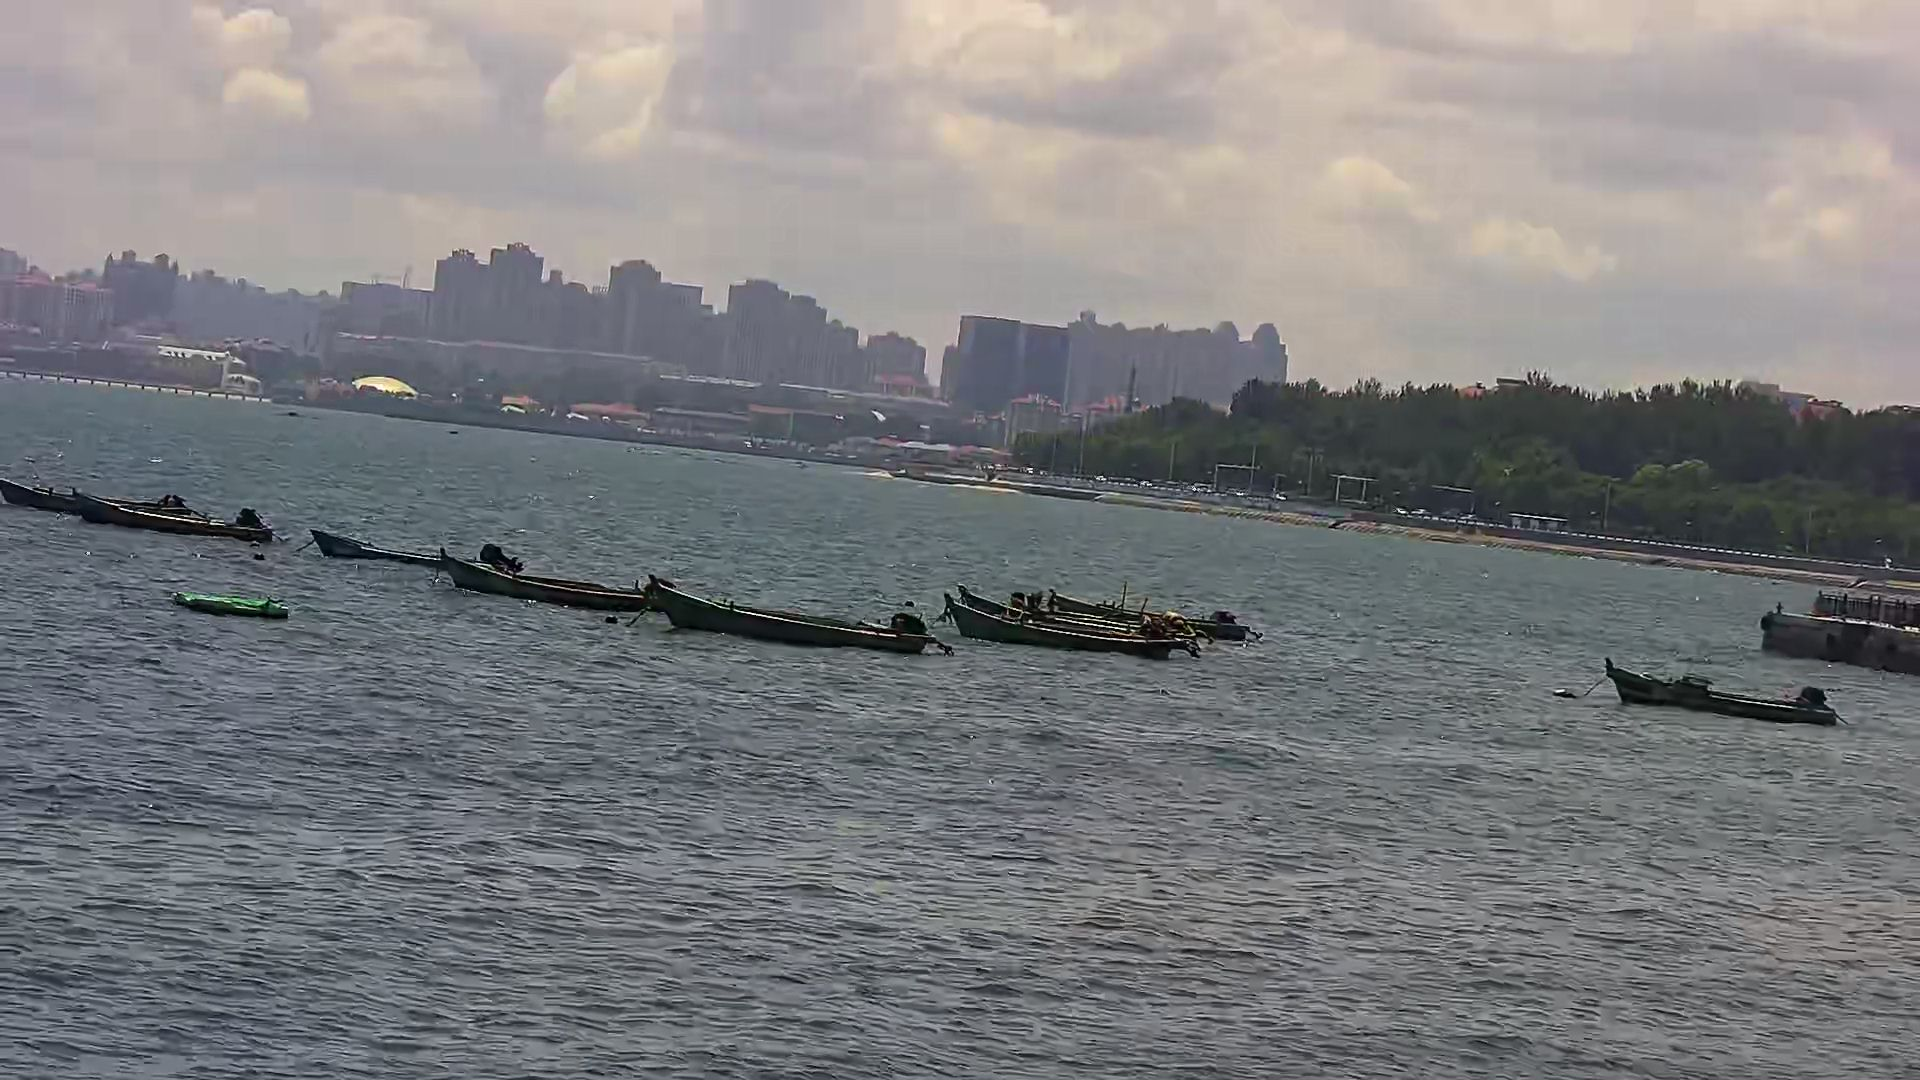ball: (592, 607, 633, 632)
boat: (644, 563, 960, 673), (1601, 636, 1863, 729), (936, 591, 1211, 673), (438, 531, 658, 607), (58, 477, 286, 550), (1039, 578, 1269, 638), (1, 456, 195, 524), (302, 516, 476, 582), (158, 568, 298, 632)
harbor: (1743, 580, 1920, 675)
rubbish: (1540, 675, 1585, 712)
